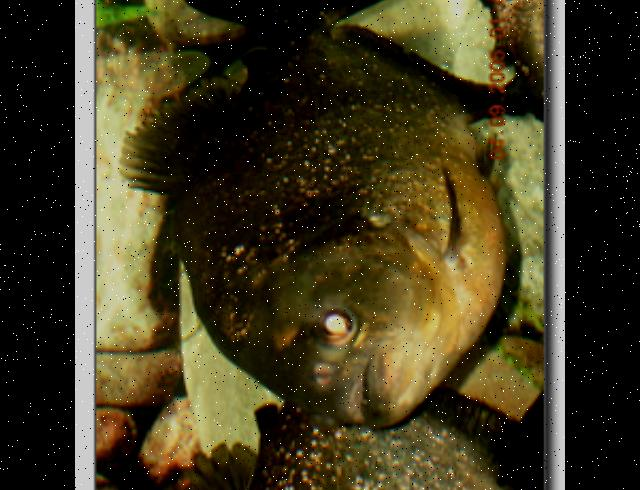Mulut: (315, 329, 425, 457)
Sirip Anal: (322, 17, 530, 128)
Sirip Dada: (417, 142, 489, 278)
Sirip Ekor: (163, 0, 435, 45)
Sirip Perut: (468, 122, 522, 190)
Sirip Punggung: (109, 37, 279, 213)
